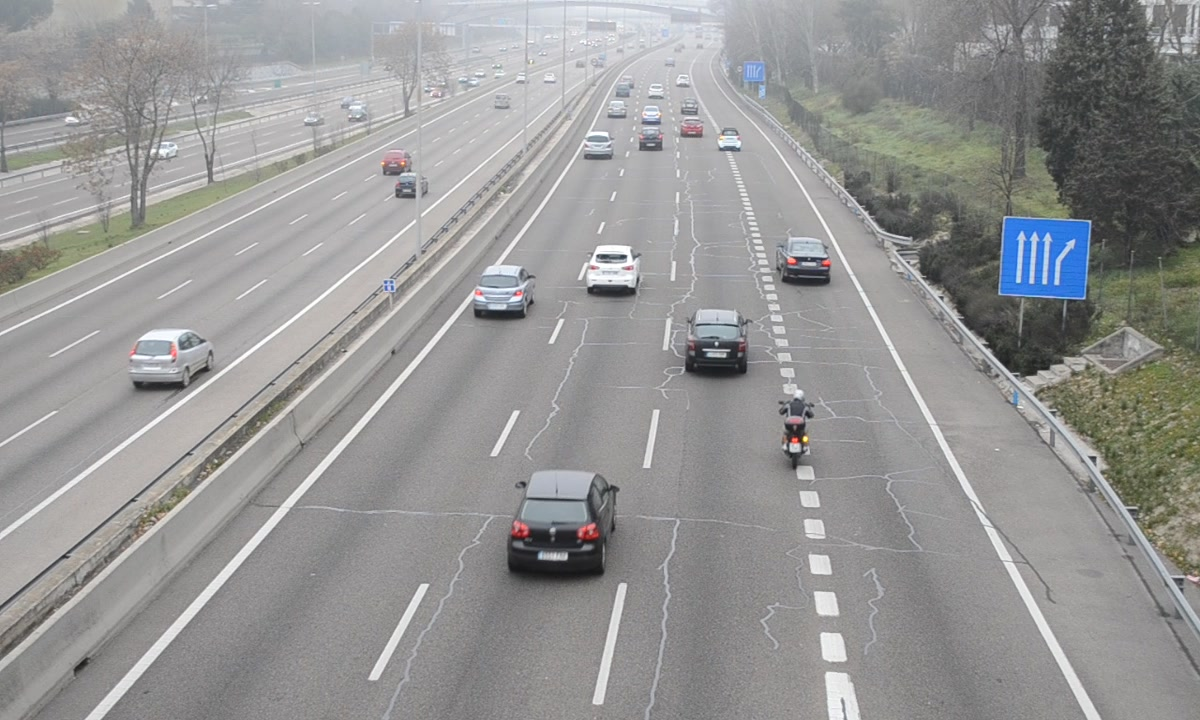car: (507, 470, 617, 573), (685, 309, 748, 373), (475, 263, 534, 314), (586, 245, 640, 292), (779, 237, 832, 284), (583, 130, 614, 161), (718, 126, 742, 153), (639, 126, 663, 152)
motorcycle: (778, 389, 818, 470)
